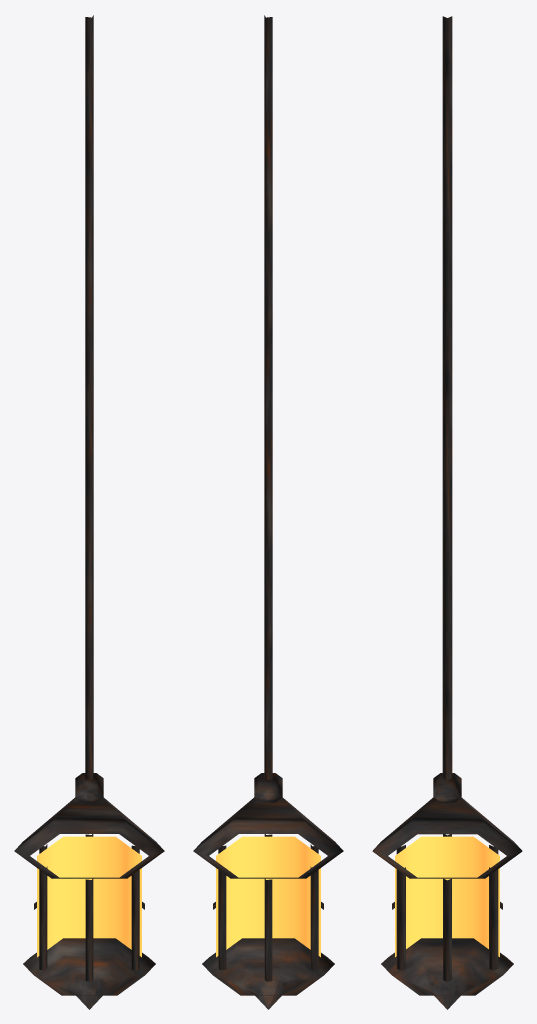
Rendered from sp_lantern_c.glb.
3 views of the same model, side by side, from view 1: azimuth 30°, elevation 25°; view 2: azimuth 150°, elevation 25°; view 3: azimuth 270°, elevation 25° (orthographic).
Visible parts, largest first — view 1: spire; view 2: spire; view 3: spire.
Boxes of the visible parts, x1,y1,x2,y2 form: spire: (14,15,164,1009); spire: (193,15,343,1009); spire: (372,16,522,1009).
Bounding box in the file's own units: 0.3724 × 3.13 × 0.43.
2 materials, 1 textured.
